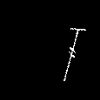treble_crochet: (64, 28, 84, 80)
